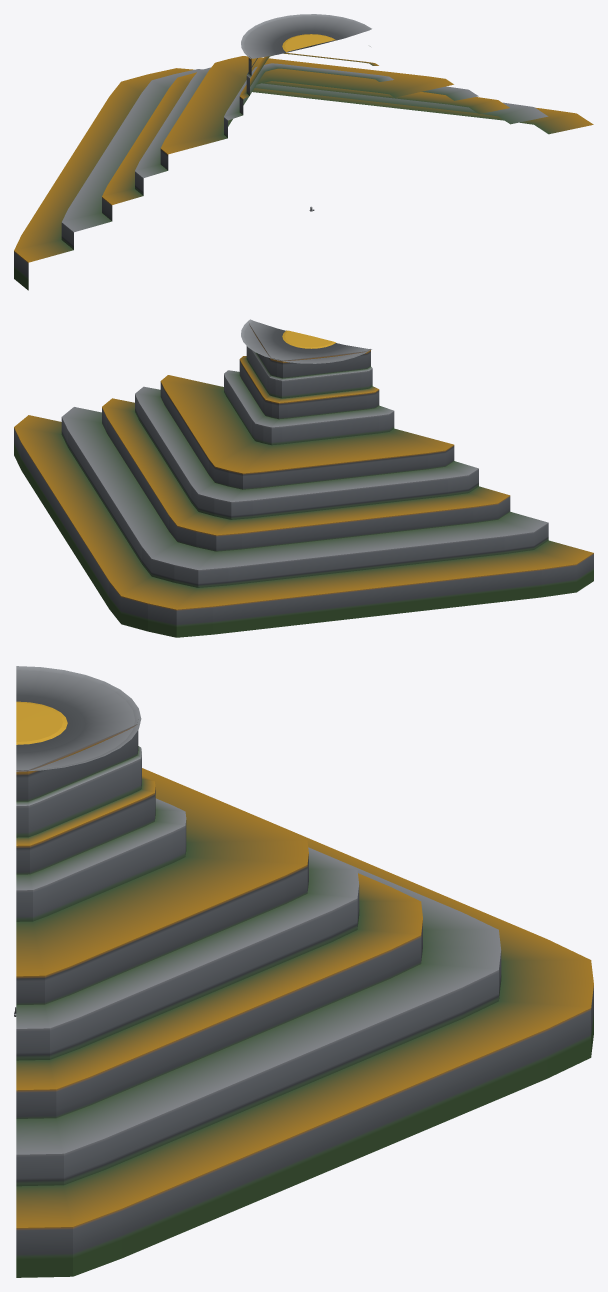
File: temple-s1-wNfnHbcO.glb
The picture shows the model from 3 angles, top to bottom: view 1: azimuth 30°, elevation 25°; view 2: azimuth 150°, elevation 25°; view 3: azimuth 270°, elevation 25°; orthographic projection. The views are drawn at different scales.
Parts seen in each view (by area): view 1: sc_landmark_0; view 2: sc_landmark_0; view 3: sc_landmark_0.
Part boxes in pixels (box(x1,y1,x2,y2)): sc_landmark_0: box(14, 14, 593, 290); sc_landmark_0: box(14, 319, 593, 637); sc_landmark_0: box(16, 666, 593, 1277).
Size of the model in its own units: 758 by 228 by 381.
